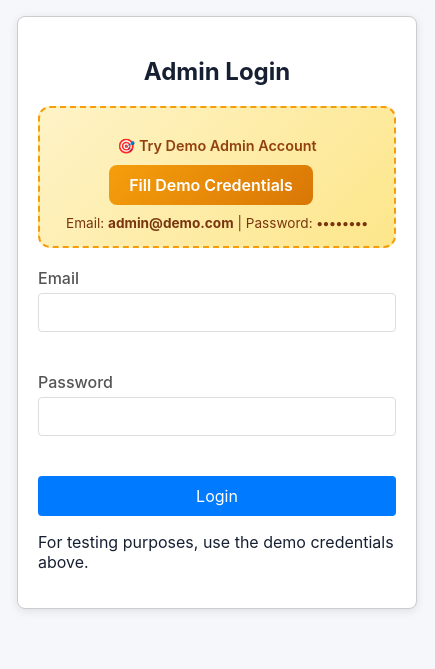
Test case: surfaces the api error message when the credentials are rejected
Type "admin@example.com" into the field labelled "Email". click: (217, 313)
box: [38,293,396,332]
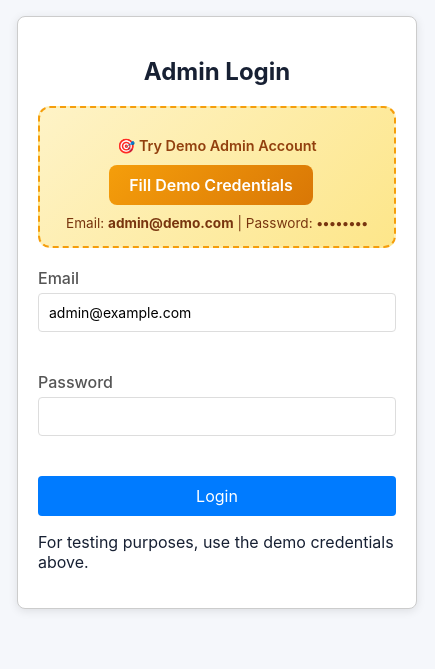
Type "wrong" into the password field labelled "Password". click: (217, 417)
box: [38,397,396,436]
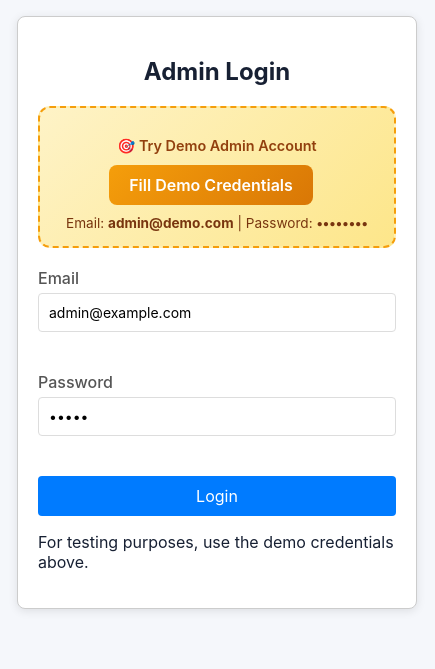
Click the button "Login". click: (217, 496)
box: [38,476,396,516]
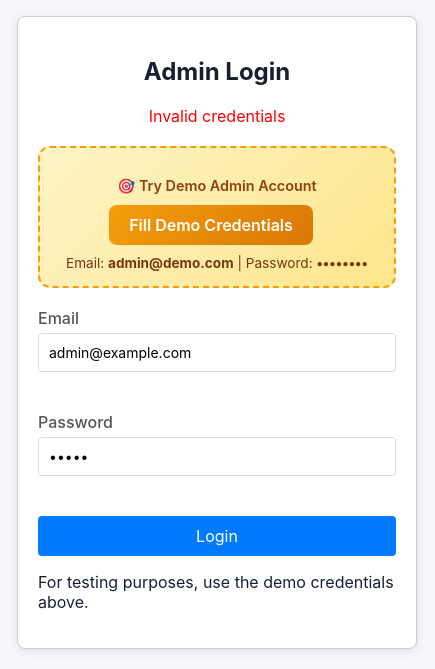
Result: the text "Invalid credentials" is shown at [149,106,285,126]
